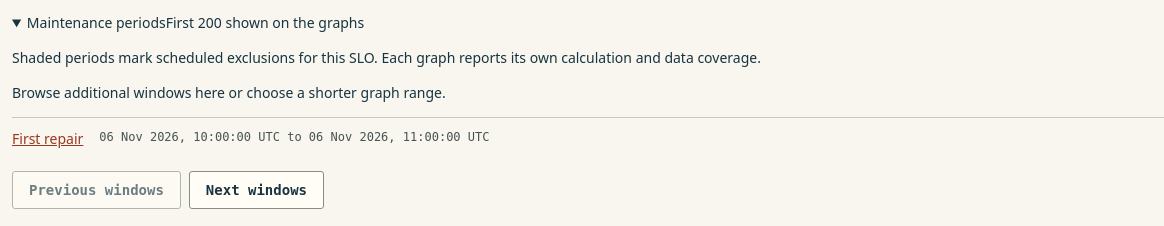
it: shows preparation status on an empty continuation of the maintenance disclosure
Click the button "Next windows".
click(256, 190)  # box [189,171,324,209]
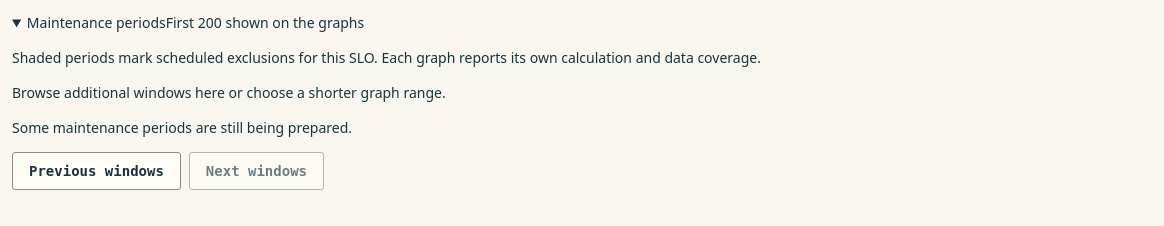
Expected: the text "Some maintenance periods are still being prepared." is shown, [12,118,352,137]
